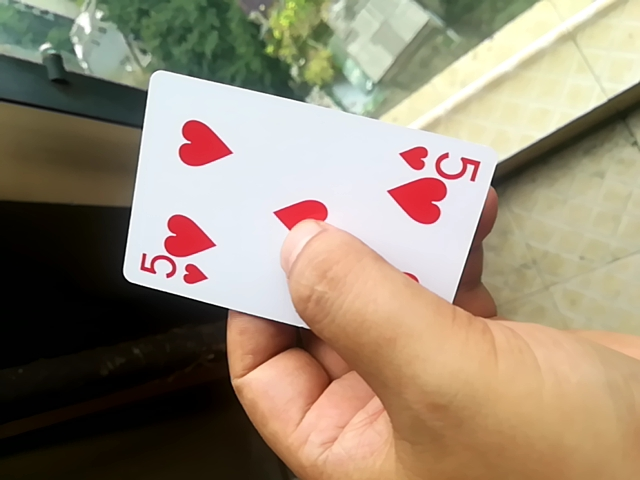hx 5: (127, 72, 498, 337)
